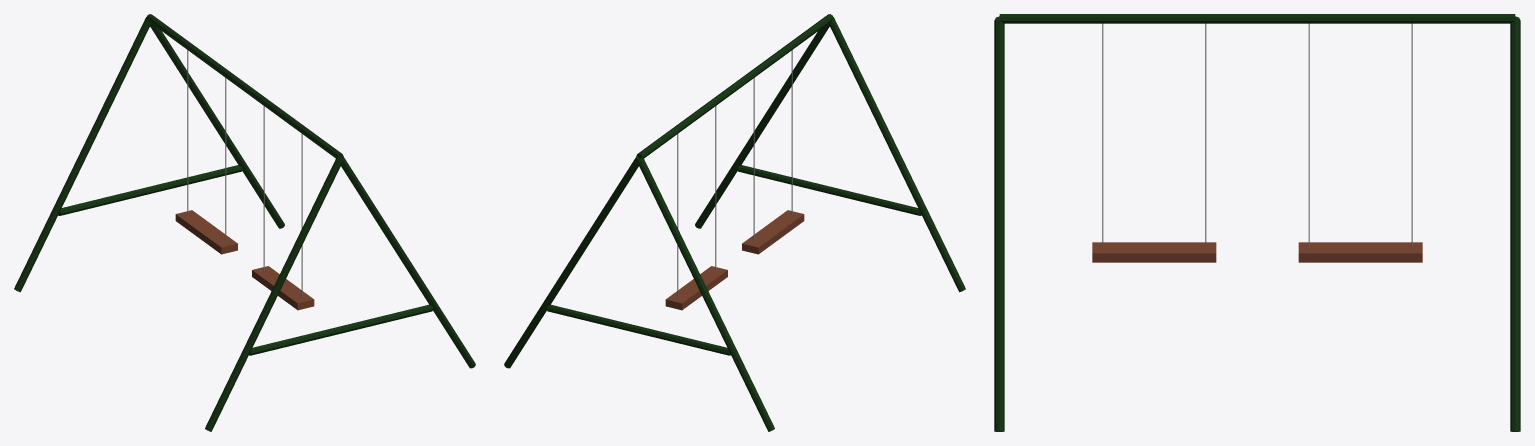
File: SwingsColoured.fbx
The picture shows the model from 3 angles, left to right: view 1: azimuth 30°, elevation 25°; view 2: azimuth 150°, elevation 25°; view 3: azimuth 270°, elevation 25°; orthographic projection. The views are drawn at different scales.
Visible parts, largest first — view 1: Cylinder.002, Cylinder.001, Cylinder.003, Cylinder.004, Cylinder, Cylinder.005, Cylinder.006, Cube, Cube.001; view 2: Cylinder.001, Cylinder.002, Cylinder, Cylinder.004, Cylinder.003, Cylinder.006, Cylinder.005, Cube.001, Cube; view 3: Cylinder.004, Cylinder.003, Cylinder, Cube.001, Cube.
Part boxes in pixels (bbox=[...]): Cylinder.002: bbox=[205, 157, 342, 431]; Cylinder.001: bbox=[14, 17, 150, 292]; Cylinder.003: bbox=[340, 156, 475, 368]; Cylinder.004: bbox=[146, 14, 343, 158]; Cylinder: bbox=[150, 23, 284, 228]; Cylinder.005: bbox=[58, 165, 242, 215]; Cylinder.006: bbox=[249, 304, 432, 355]; Cube: bbox=[175, 210, 237, 254]; Cube.001: bbox=[252, 266, 314, 310]; Cylinder.001: bbox=[637, 157, 774, 431]; Cylinder.002: bbox=[829, 17, 965, 292]; Cylinder: bbox=[504, 156, 639, 368]; Cylinder.004: bbox=[636, 14, 833, 158]; Cylinder.003: bbox=[695, 23, 829, 228]; Cylinder.006: bbox=[737, 165, 921, 215]; Cylinder.005: bbox=[547, 304, 730, 355]; Cube.001: bbox=[742, 210, 804, 254]; Cube: bbox=[665, 266, 727, 310]; Cylinder.004: bbox=[999, 14, 1515, 23]; Cylinder.003: bbox=[994, 20, 1004, 431]; Cylinder: bbox=[1510, 20, 1520, 431]; Cube.001: bbox=[1092, 242, 1216, 262]; Cube: bbox=[1298, 242, 1422, 262].
Bounding box in the file's own units: 409 × 356 × 510.
